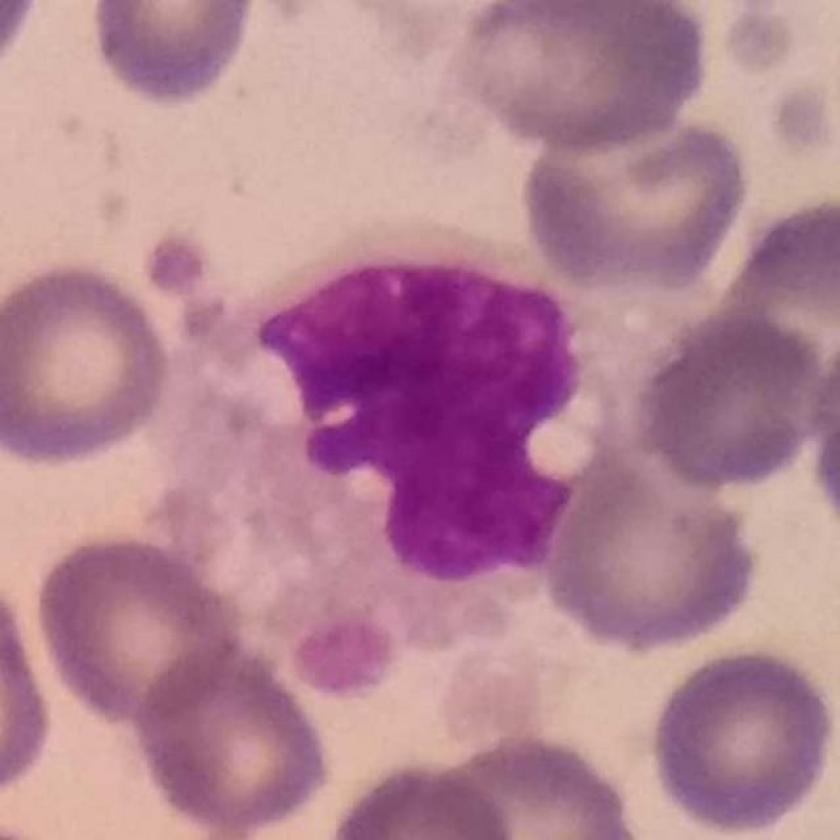monocyte: (149, 228, 723, 691)
